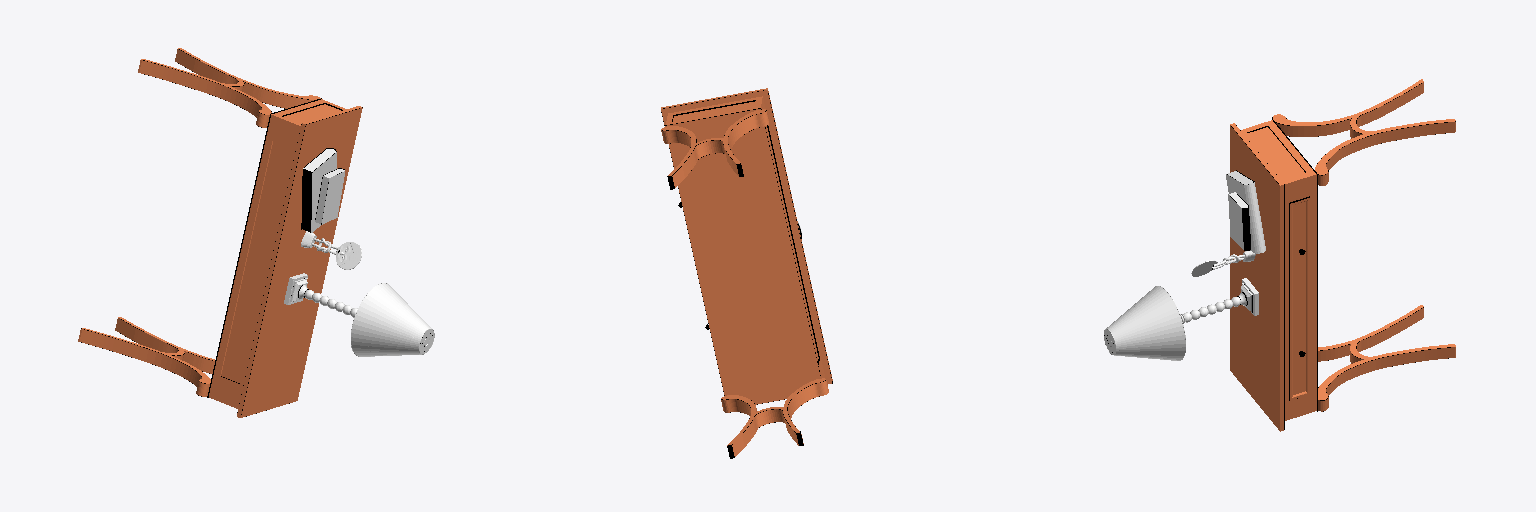
Rendered from bookdesk.obj.
The picture shows the model from 3 angles: view 1: azimuth 30°, elevation 25°; view 2: azimuth 150°, elevation 25°; view 3: azimuth 270°, elevation 25°; orthographic projection.
Parts seen in each view (by area): view 1: Object.4, Object.1, Object.2, Object.3; view 2: Object.4; view 3: Object.4, Object.1, Object.2, Object.3.
Part boxes in pixels (left/top/right/bottom): Object.4: left=78, top=48, right=434, bottom=417; Object.1: left=301, top=148, right=336, bottom=232; Object.2: left=315, top=168, right=344, bottom=224; Object.3: left=301, top=231, right=361, bottom=269; Object.4: left=661, top=88, right=832, bottom=458; Object.4: left=1104, top=79, right=1455, bottom=431; Object.1: left=1226, top=170, right=1265, bottom=253; Object.2: left=1228, top=192, right=1250, bottom=250; Object.3: left=1191, top=251, right=1255, bottom=276.
Bounding box in the file's own units: 882 × 1226 × 1261.